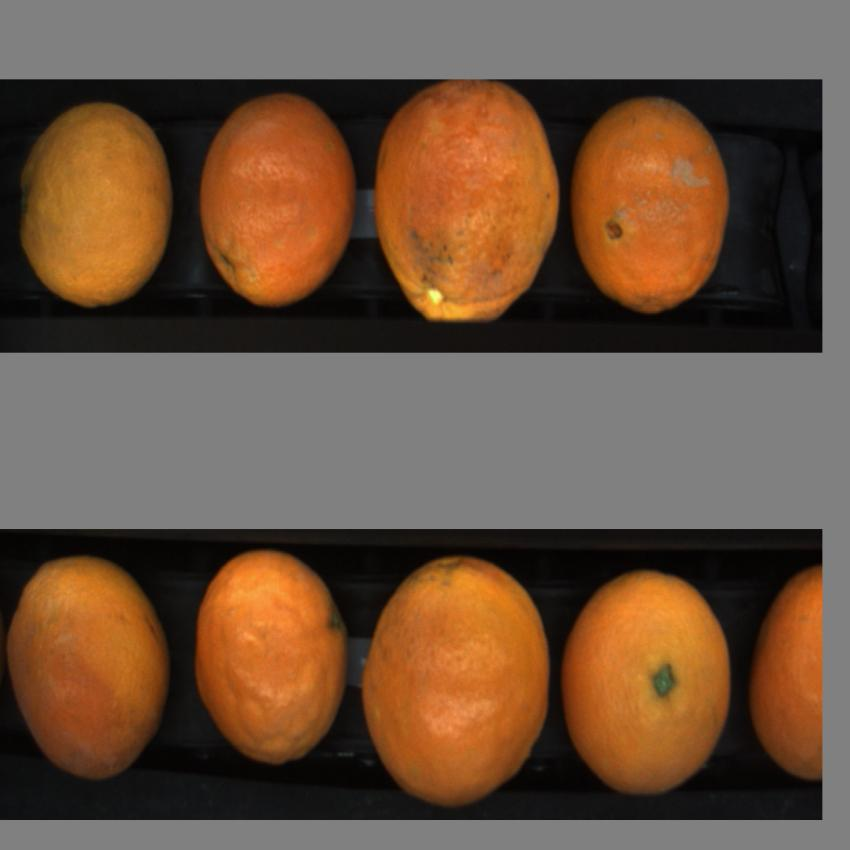Buen estado: (362, 558, 553, 804), (560, 561, 736, 801), (191, 543, 351, 772), (16, 100, 177, 308), (748, 567, 822, 782)
Mal estado: (371, 88, 565, 329), (5, 554, 175, 788), (570, 95, 735, 321), (197, 97, 361, 312)
